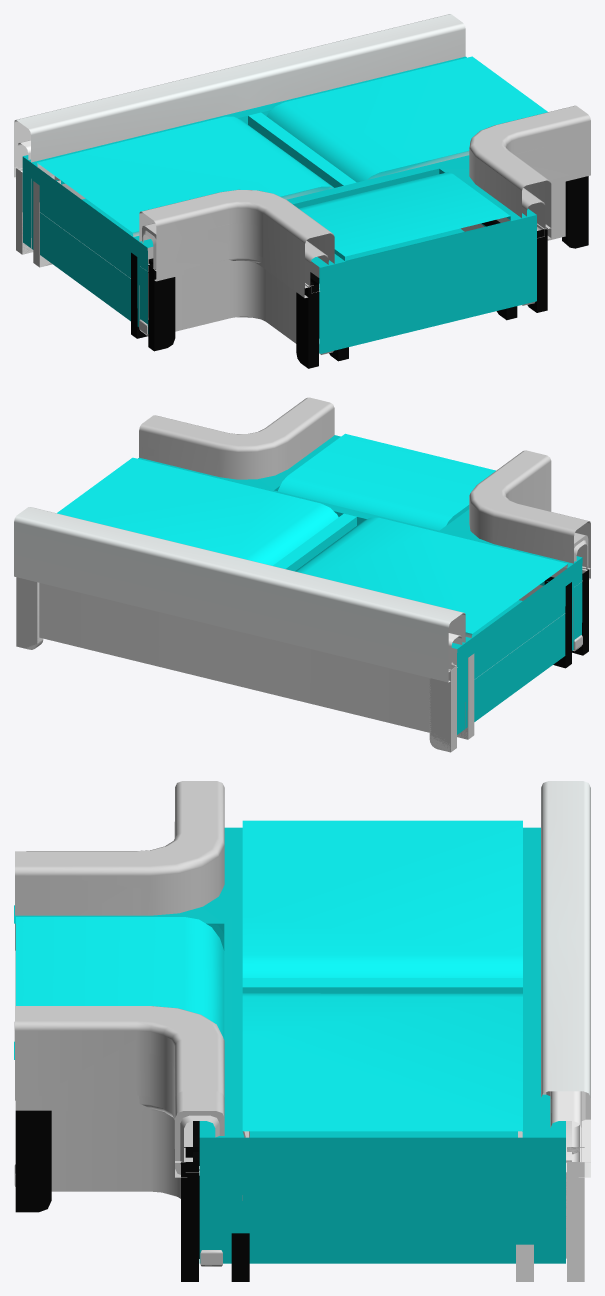
The model's file is SplitterTShapeInternalVariant.gltf.
3 views of the same model, one above another, from view 1: azimuth 30°, elevation 25°; view 2: azimuth 150°, elevation 25°; view 3: azimuth 270°, elevation 25° (orthographic). The views are drawn at different scales.
Visible parts, largest first — view 1: Splitter_1to2T_Belt_LOD0, Splitter_DefaultBorder_Layer1_LOD0.002, Splitter_DefaultBorder_Layer0_LOD0.002, Splitter_TBorder_Layer0_LOD0, Splitter_DefaultBorder_Layer2_LOD0.002, Splitter_TBorder_Layer1_LOD0; view 2: Splitter_TBorder_Layer0_LOD0, Splitter_1to2T_Belt_LOD0, Splitter_DefaultBorder_Layer0_LOD0.002, Splitter_DefaultBorder_Layer1_LOD0.002, Splitter_DefaultBorder_Layer2_LOD0.002, Splitter_TBorder_Layer1_LOD0; view 3: Splitter_1to2T_Belt_LOD0, Splitter_DefaultBorder_Layer0_LOD0.002, Splitter_DefaultBorder_Layer1_LOD0.002, Splitter_TBorder_Layer0_LOD0, Splitter_DefaultBorder_Layer2_LOD0.002, Splitter_TBorder_Layer1_LOD0, Splitter_TBorder_Layer2_LOD0.
Part boxes in pixels (box(x1,y1,x2,y2)): Splitter_1to2T_Belt_LOD0: box(37, 56, 547, 260); Splitter_DefaultBorder_Layer1_LOD0.002: box(14, 57, 590, 368); Splitter_DefaultBorder_Layer0_LOD0.002: box(22, 56, 590, 353); Splitter_TBorder_Layer0_LOD0: box(14, 14, 465, 248); Splitter_DefaultBorder_Layer2_LOD0.002: box(40, 57, 573, 288); Splitter_TBorder_Layer1_LOD0: box(14, 120, 60, 267); Splitter_TBorder_Layer0_LOD0: box(14, 507, 465, 732); Splitter_1to2T_Belt_LOD0: box(57, 433, 567, 637); Splitter_DefaultBorder_Layer0_LOD0.002: box(138, 397, 590, 734); Splitter_DefaultBorder_Layer1_LOD0.002: box(16, 397, 590, 752); Splitter_DefaultBorder_Layer2_LOD0.002: box(139, 435, 588, 678); Splitter_TBorder_Layer1_LOD0: box(24, 582, 467, 752); Splitter_1to2T_Belt_LOD0: box(16, 820, 522, 1131); Splitter_DefaultBorder_Layer0_LOD0.002: box(15, 781, 565, 1263); Splitter_DefaultBorder_Layer1_LOD0.002: box(14, 781, 590, 1281); Splitter_TBorder_Layer0_LOD0: box(541, 781, 590, 1177); Splitter_DefaultBorder_Layer2_LOD0.002: box(15, 827, 565, 1200); Splitter_TBorder_Layer1_LOD0: box(516, 1119, 590, 1281); Splitter_TBorder_Layer2_LOD0: box(542, 1091, 590, 1168).
Size of the model in its own units: 1 by 0.2874 by 0.7874.
